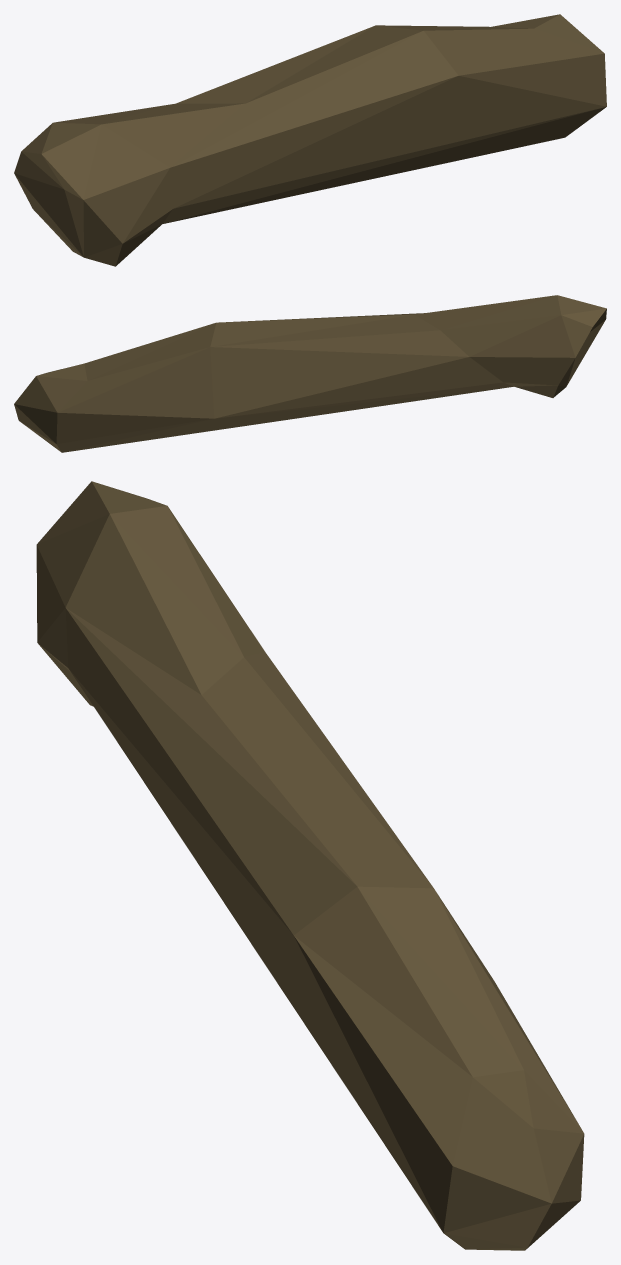
Rendered from femur_m_l.dae.
The picture shows the model from 3 angles, top to bottom: view 1: azimuth 30°, elevation 25°; view 2: azimuth 150°, elevation 25°; view 3: azimuth 270°, elevation 25°; orthographic projection. The views are drawn at different scales.
Visible parts, largest first — view 1: ant-femur-middle-left; view 2: ant-femur-middle-left; view 3: ant-femur-middle-left.
Boxes of the visible parts, left/top/right/bottom form: ant-femur-middle-left: left=14, top=14, right=606, bottom=266; ant-femur-middle-left: left=14, top=295, right=606, bottom=452; ant-femur-middle-left: left=36, top=481, right=584, bottom=1250.
Bounding box in the file's own units: 4.14 × 2.05 × 1.46.
